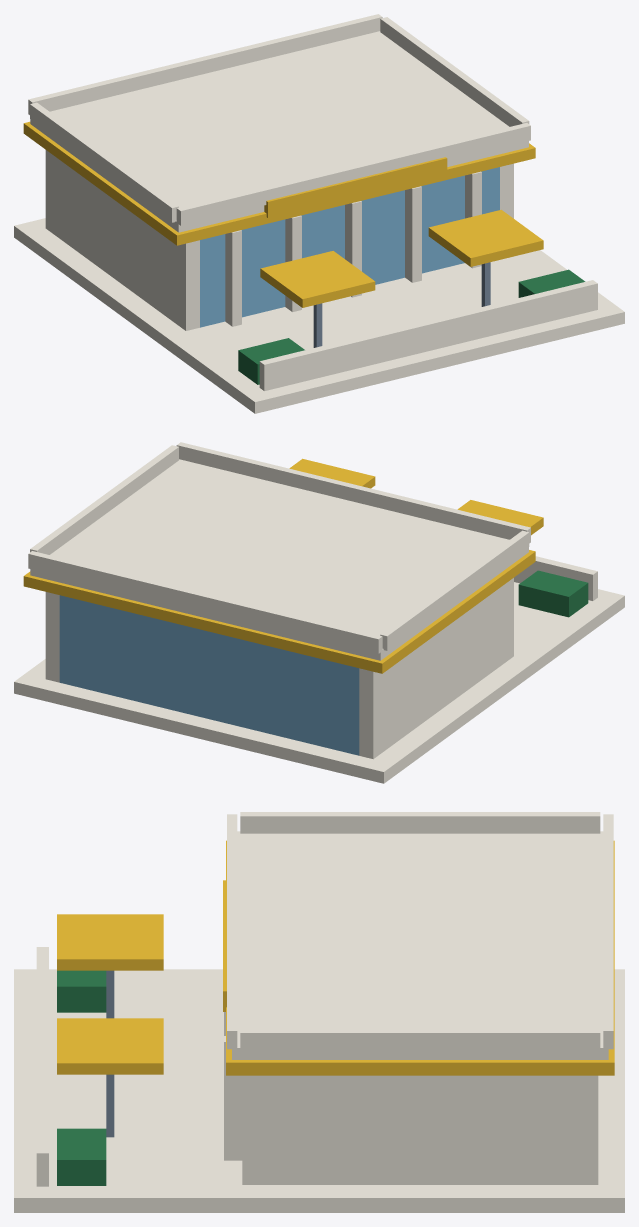
The model's file is pitRoofLounge.glb.
3 views of the same model, one above another, from view 1: azimuth 30°, elevation 25°; view 2: azimuth 150°, elevation 25°; view 3: azimuth 270°, elevation 25° (orthographic). The views are drawn at different scales.
Visible parts, largest first — view 1: pitRoofLounge_white, pitRoofLounge_yellow, pitRoofLounge_glass, pitRoofLounge_leafDark, pitRoofLounge_steel; view 2: pitRoofLounge_white, pitRoofLounge_glass, pitRoofLounge_yellow, pitRoofLounge_leafDark; view 3: pitRoofLounge_white, pitRoofLounge_yellow, pitRoofLounge_leafDark, pitRoofLounge_steel.
Part boxes in pixels (bbox=[...]): pitRoofLounge_white: bbox=[14, 14, 624, 413]; pitRoofLounge_yellow: bbox=[23, 121, 543, 307]; pitRoofLounge_glass: bbox=[200, 167, 499, 327]; pitRoofLounge_leafDark: bbox=[238, 269, 585, 384]; pitRoofLounge_steel: bbox=[313, 262, 490, 347]; pitRoofLounge_white: bbox=[14, 442, 624, 783]; pitRoofLounge_glass: bbox=[59, 595, 359, 755]; pitRoofLounge_yellow: bbox=[23, 458, 543, 673]; pitRoofLounge_leafDark: bbox=[518, 570, 588, 617]; pitRoofLounge_white: bbox=[14, 812, 624, 1212]; pitRoofLounge_yellow: bbox=[57, 840, 614, 1075]; pitRoofLounge_leafDark: bbox=[57, 970, 106, 1185]; pitRoofLounge_steel: bbox=[106, 970, 114, 1137].
Size of the model in its own units: 13.2 by 4.74 by 14.9.
